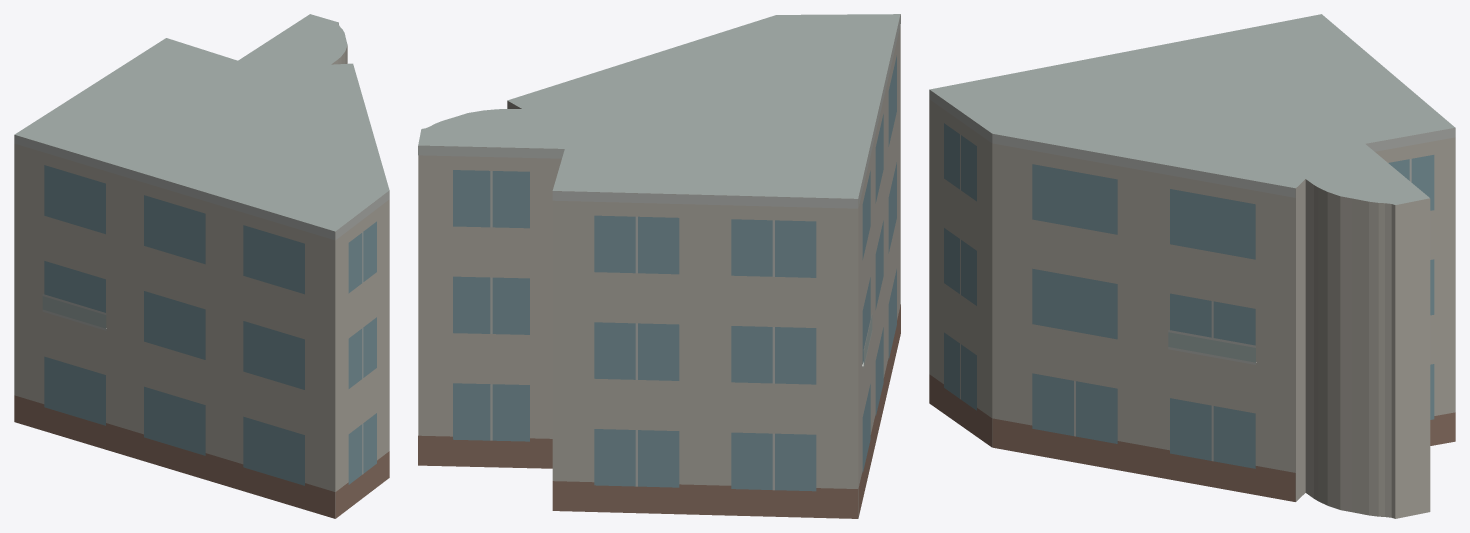
File: survey-upis-32783665.glb
3 renders of one model, left to right at view 1: azimuth 30°, elevation 25°; view 2: azimuth 150°, elevation 25°; view 3: azimuth 270°, elevation 25°, orthographic. The views are drawn at different scales.
Parts seen in each view (by area): view 1: survey-upis-32783665.tmp; view 2: survey-upis-32783665.tmp; view 3: survey-upis-32783665.tmp.
Boxes of the visible parts, x1=… form: survey-upis-32783665.tmp: x1=14, y1=14, x2=389, y2=518; survey-upis-32783665.tmp: x1=418, y1=14, x2=900, y2=518; survey-upis-32783665.tmp: x1=929, y1=14, x2=1455, y2=518.
Size of the model in its own units: 10.32 by 7.9 by 12.01.
